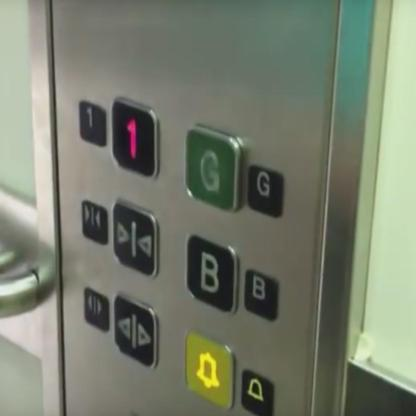1: (108, 91, 164, 186), (74, 93, 110, 153)
B: (182, 230, 242, 317), (240, 264, 283, 324)
G: (180, 118, 247, 216), (244, 162, 286, 222)
alarm: (180, 326, 238, 412), (240, 365, 275, 416)
close: (110, 194, 163, 282), (76, 194, 111, 250)
open: (112, 290, 164, 375), (78, 283, 112, 336)
